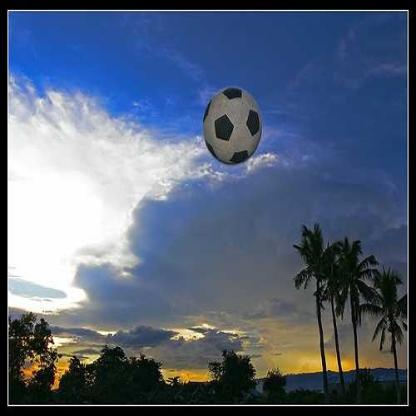ball: (203, 84, 264, 165)
